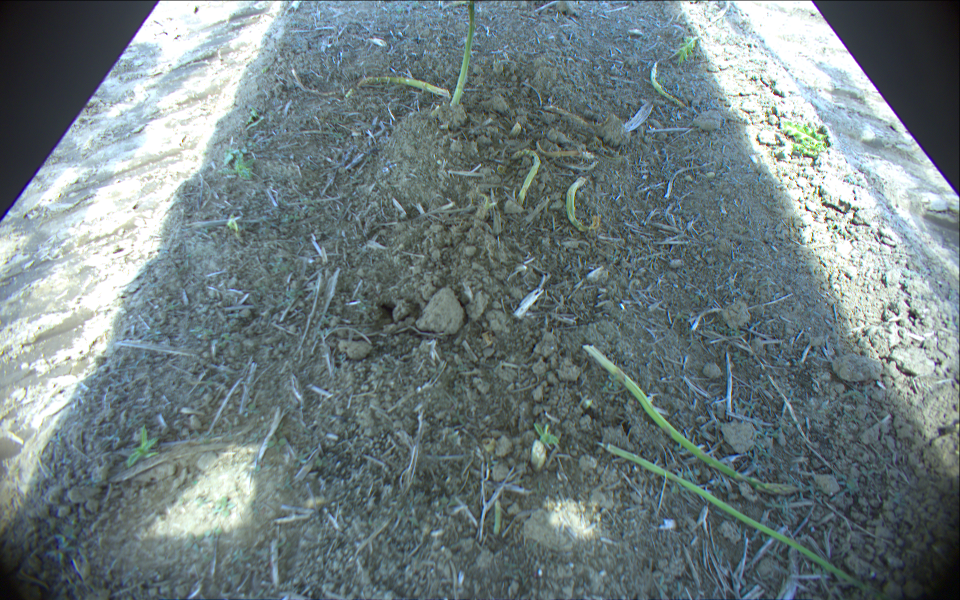aspa: (604, 443, 900, 600), (582, 345, 812, 496), (452, 1, 477, 105), (356, 76, 452, 98), (511, 147, 542, 206), (567, 177, 599, 232), (649, 61, 686, 108), (491, 495, 504, 538)
